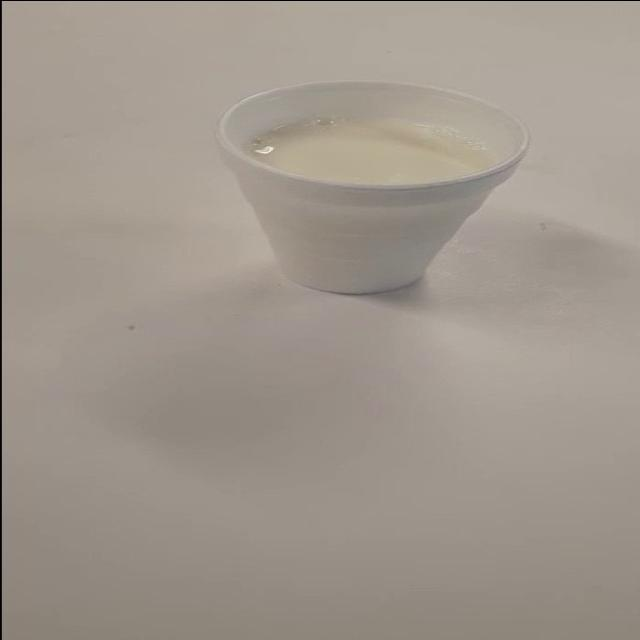Milk: (203, 73, 577, 316)
